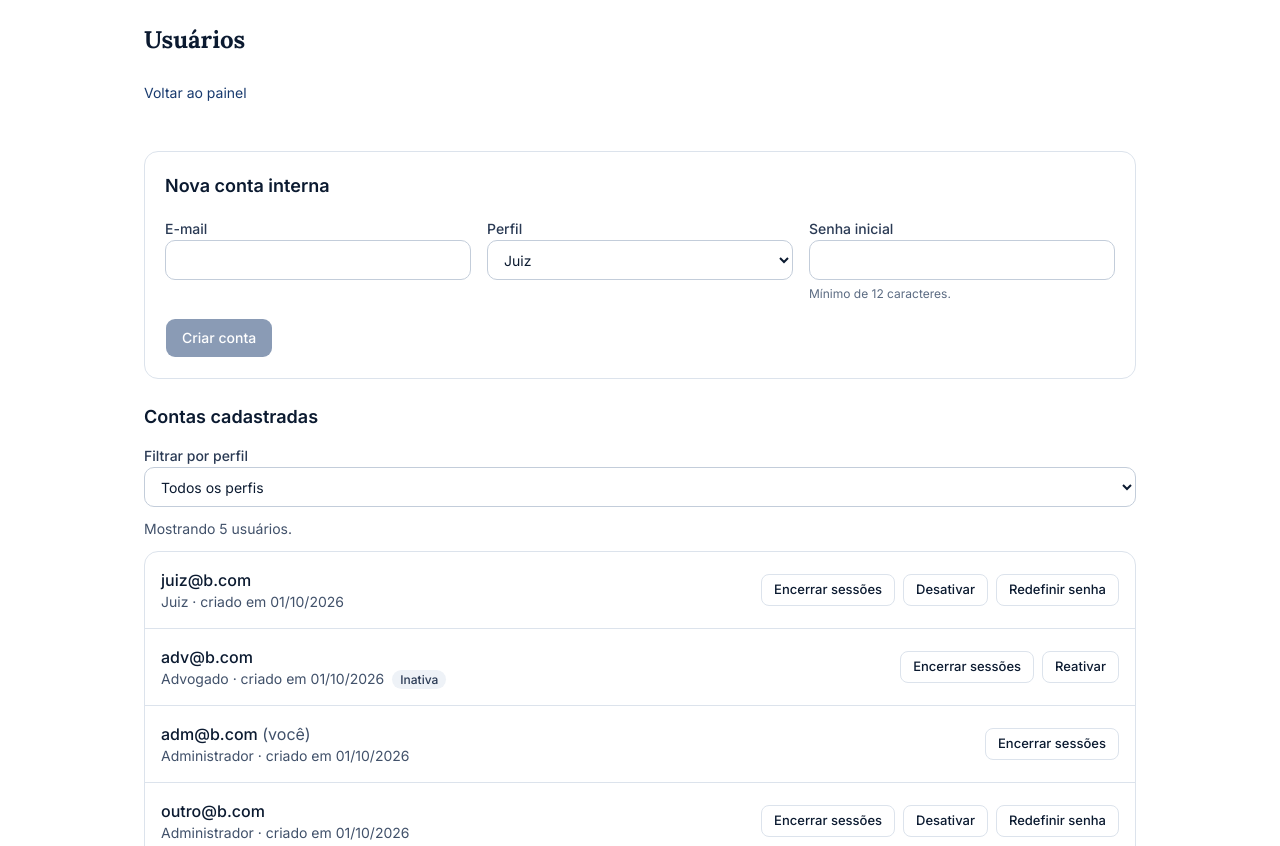
Test: UsersAdmin account status › refetches on a 404 when deactivating
This screenshot has width=1280, height=846.
Expected: the text "juiz@b.com" is shown, [161, 570, 251, 590]
Click the button "Desativar" in the row of "juiz@b.com".
click(945, 590)  # box [903, 574, 988, 606]
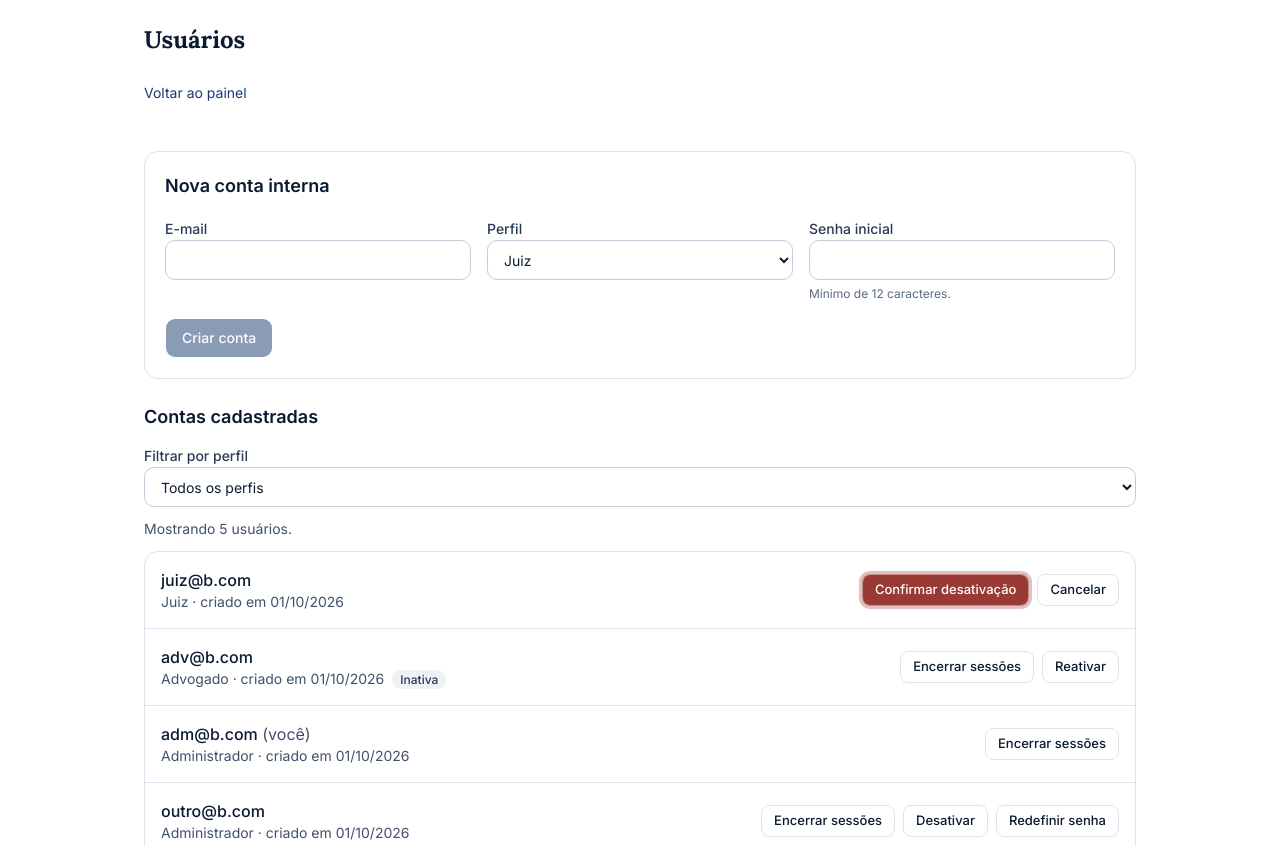
Click the button "Confirmar desativação".
click(946, 590)  # box [862, 574, 1030, 606]
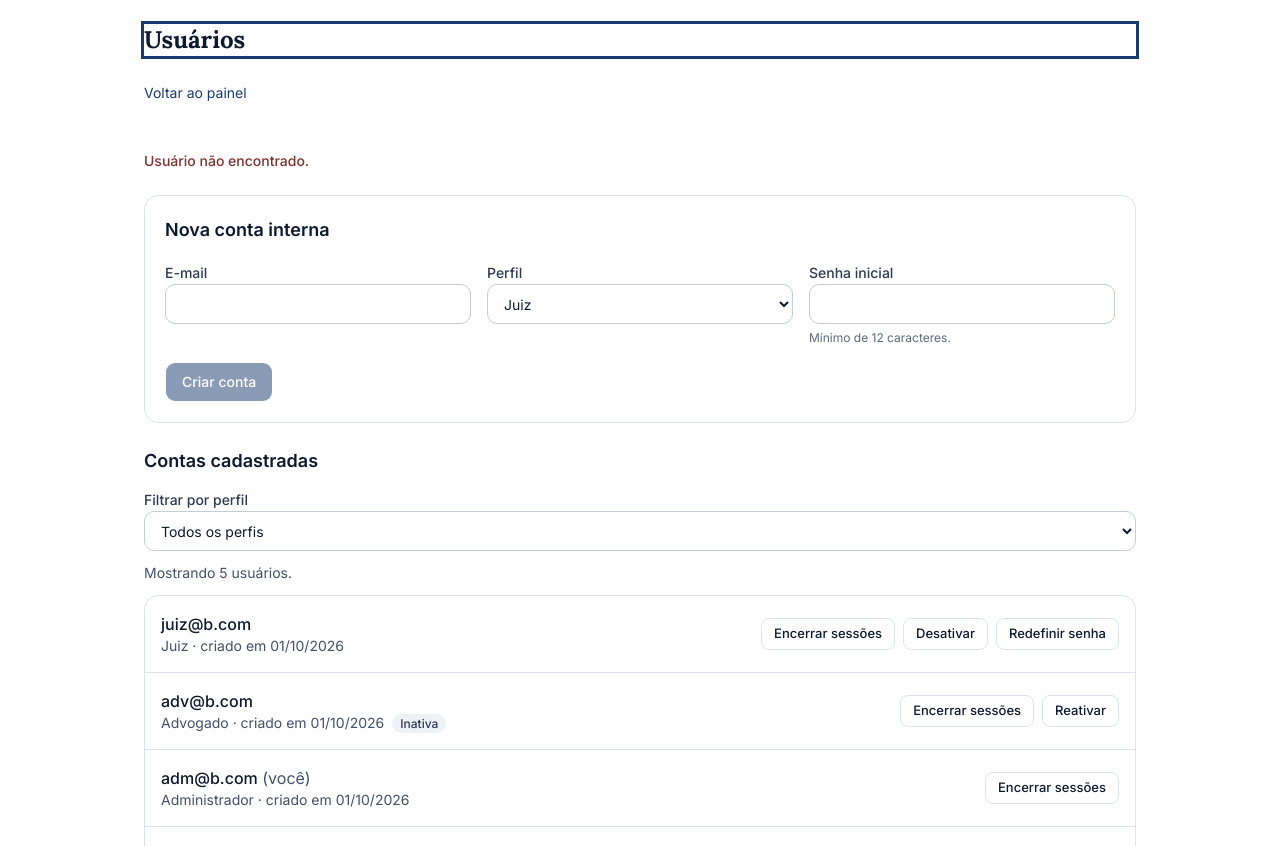
Result: the message reads "Usuário não encontrado." at [144, 152, 309, 169]
